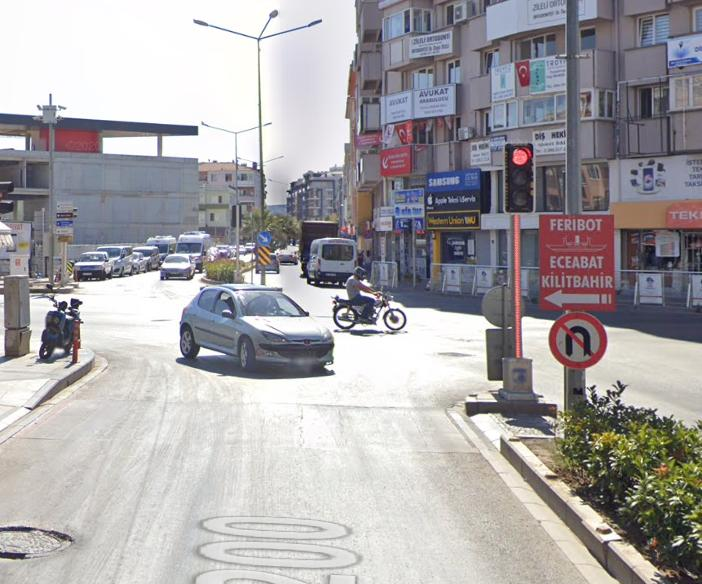redlight: (505, 143, 536, 213)
